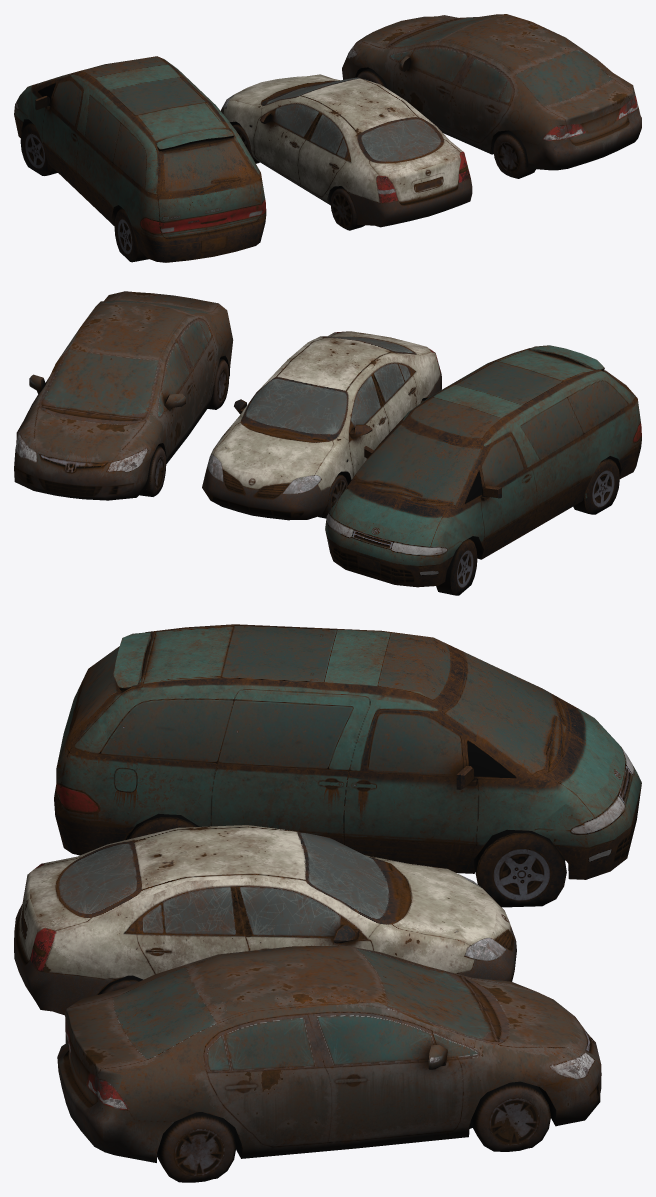
The picture shows the model from 3 angles, top to bottom: view 1: azimuth 30°, elevation 25°; view 2: azimuth 150°, elevation 25°; view 3: azimuth 270°, elevation 25°; orthographic projection. The views are drawn at different scales.
Parts seen in each view (by area): view 1: Geode (×3); view 2: Geode (×3); view 3: Geode (×3).
Part boxes in pixels (left/top/right/bottom): Geode (×3): left=14, top=14, right=641, bottom=262; Geode (×3): left=14, top=291, right=641, bottom=595; Geode (×3): left=14, top=624, right=641, bottom=1182.
Size of what is drawn, in the model's own units: 300 by 72.94 by 206.
Materials: 3 (3 with a texture image).
